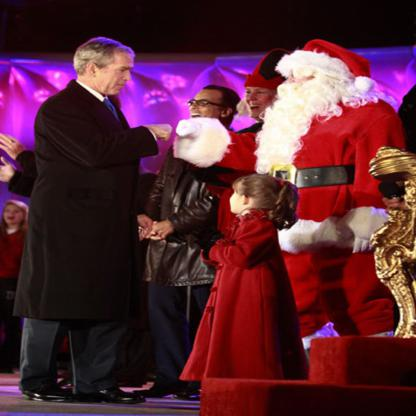face: (281, 63, 326, 107), (98, 57, 135, 96), (189, 91, 225, 125), (246, 85, 279, 118), (230, 188, 251, 214), (7, 209, 22, 224)
